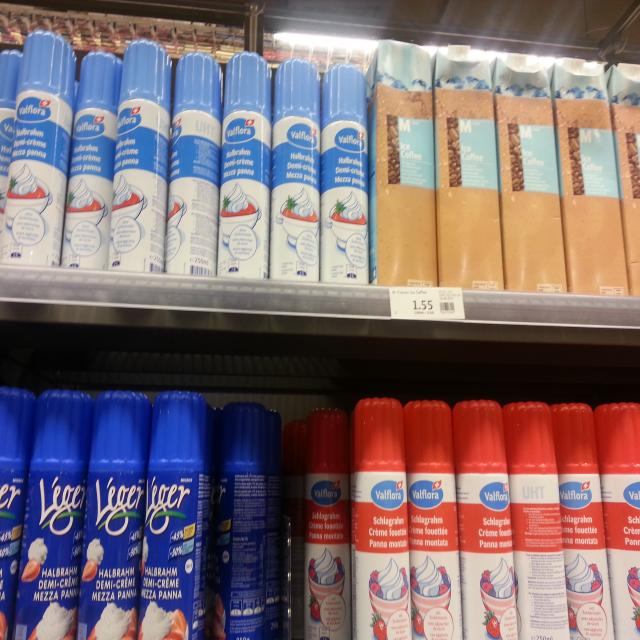Coffee: (489, 51, 566, 294), (553, 55, 627, 299), (366, 41, 436, 288), (434, 43, 502, 290), (602, 60, 640, 298)
Creme: (12, 388, 91, 640), (138, 392, 213, 640), (79, 389, 153, 640), (0, 28, 74, 269), (450, 399, 518, 640), (503, 401, 569, 640), (106, 38, 172, 276), (547, 402, 612, 640), (352, 396, 413, 640), (217, 401, 278, 639), (402, 401, 462, 640), (60, 52, 122, 270), (220, 52, 276, 284), (168, 51, 224, 278), (270, 56, 320, 288), (305, 407, 351, 640), (595, 403, 640, 640), (322, 66, 368, 286), (0, 387, 31, 640)
